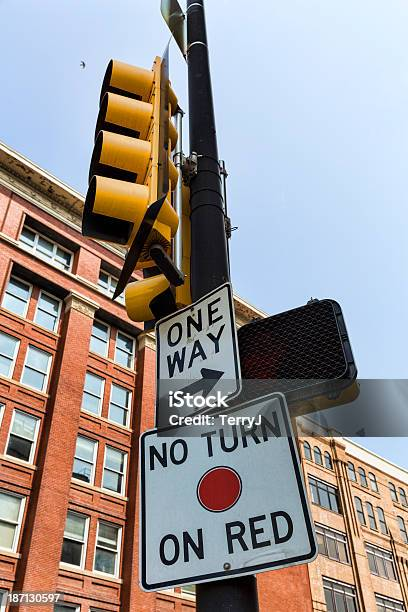No Turn on Red: (133, 419, 282, 577)
